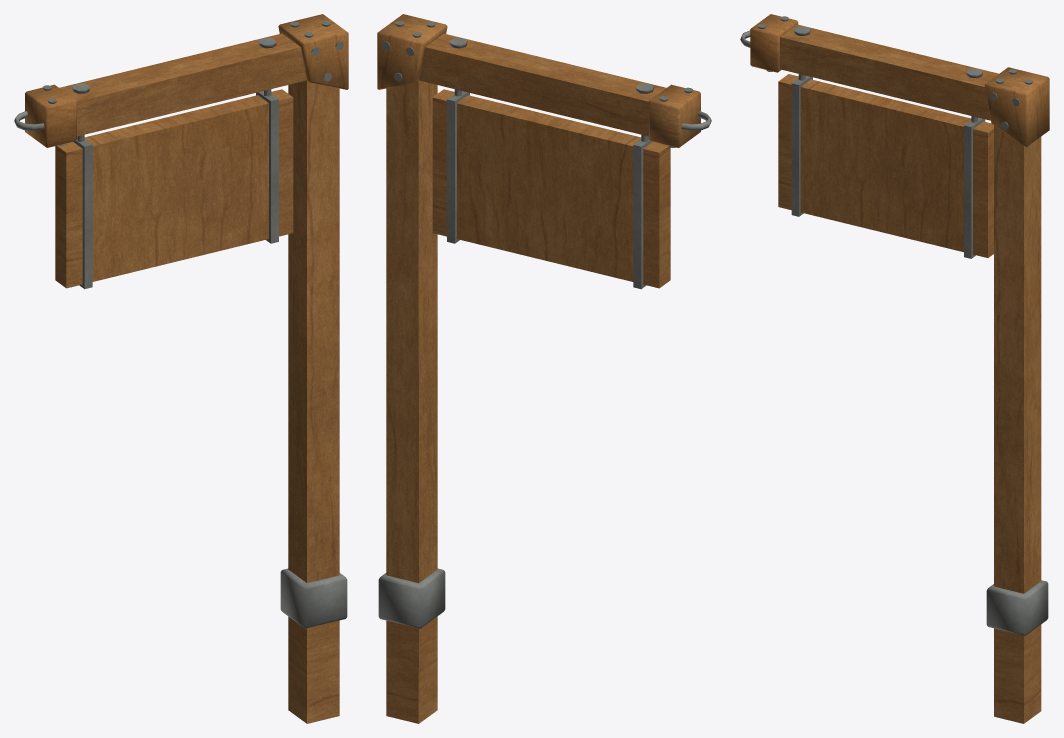
The model's file is roadsign.fbx.
3 views of the same model, side by side, from view 1: azimuth 30°, elevation 25°; view 2: azimuth 150°, elevation 25°; view 3: azimuth 330°, elevation 25° (orthographic). The views are drawn at different scales.
Visible parts, largest first — view 1: Box001; view 2: Box001; view 3: Box001.
Boxes of the visible parts, box(x1,y1,x2,y2) form: Box001: box(14, 14, 348, 723); Box001: box(377, 14, 711, 723); Box001: box(740, 14, 1049, 723).
Bounding box in the file's own units: 98.85 × 203 × 15.01.
